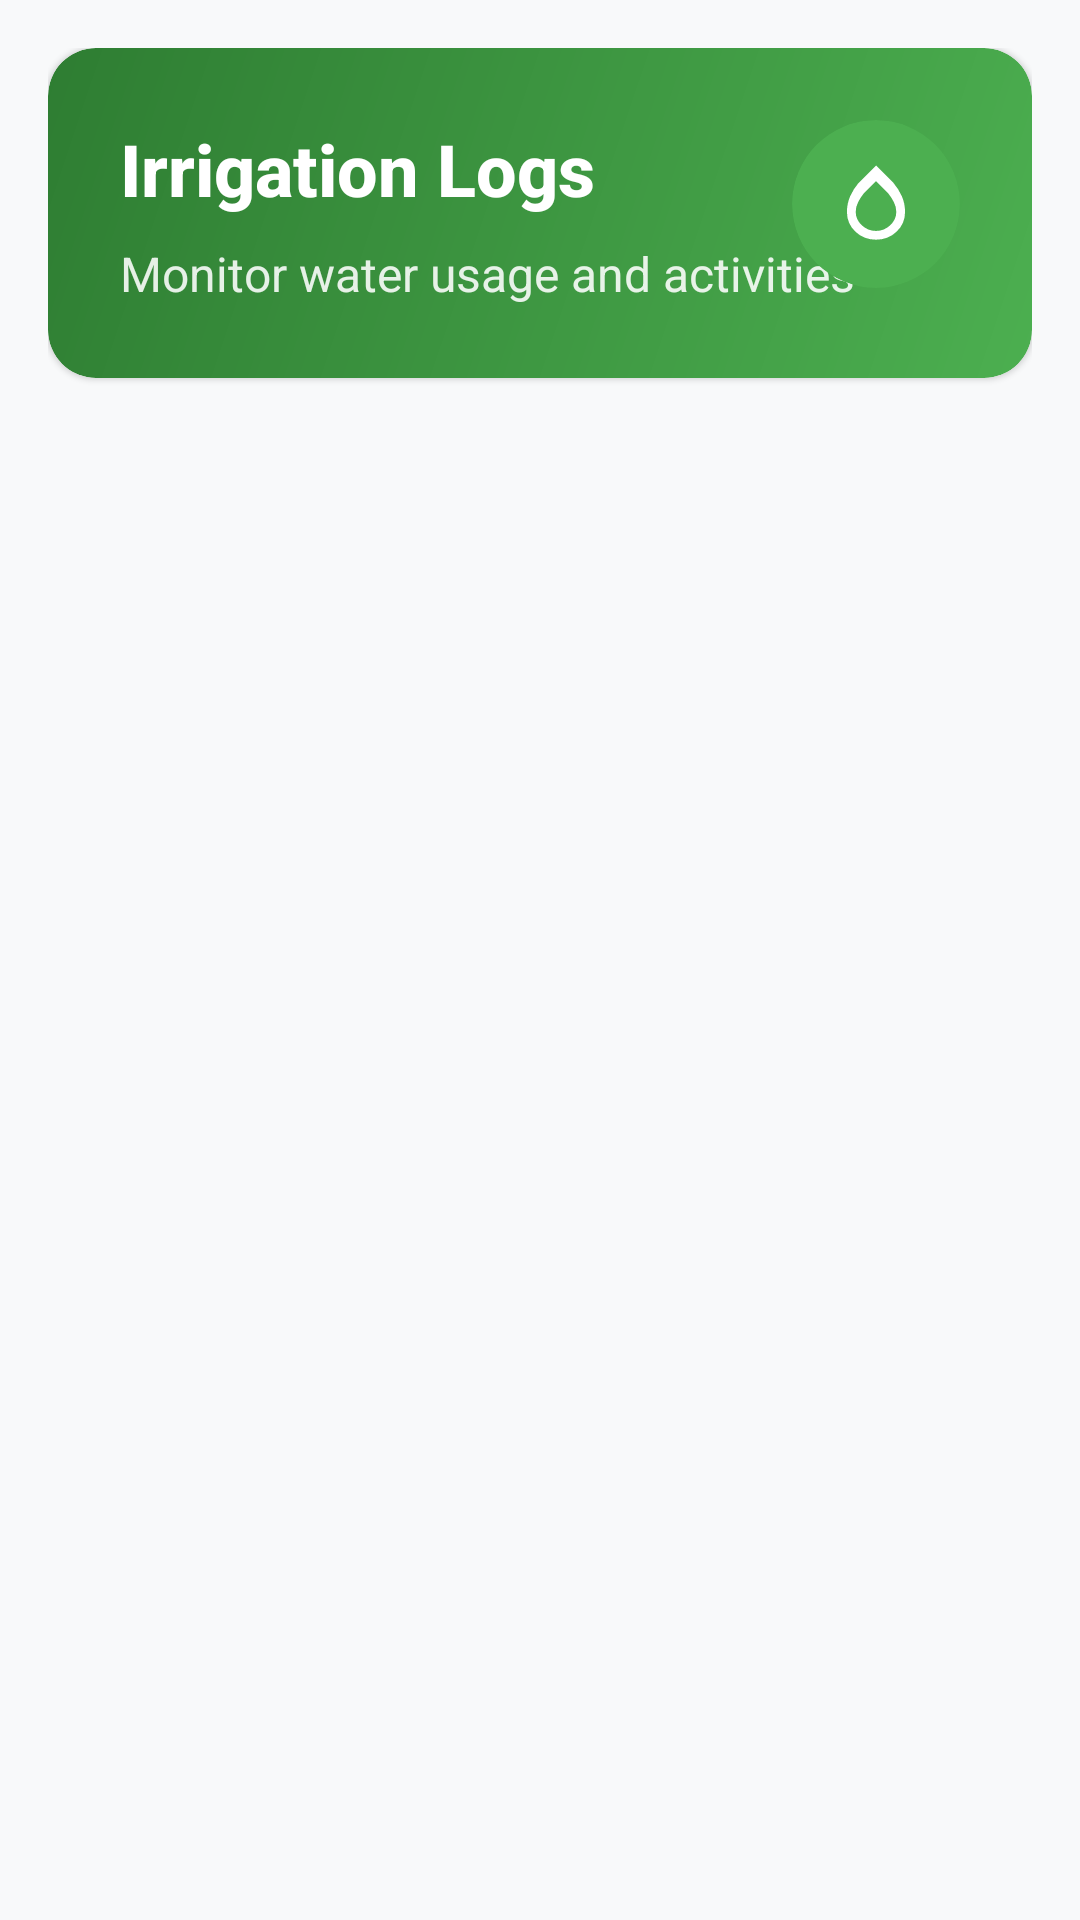

Locate icon controls on the screen. Image size 1080*1920, boxes as (x1, y1, x2, y2).
drop: (847, 165, 905, 240)
